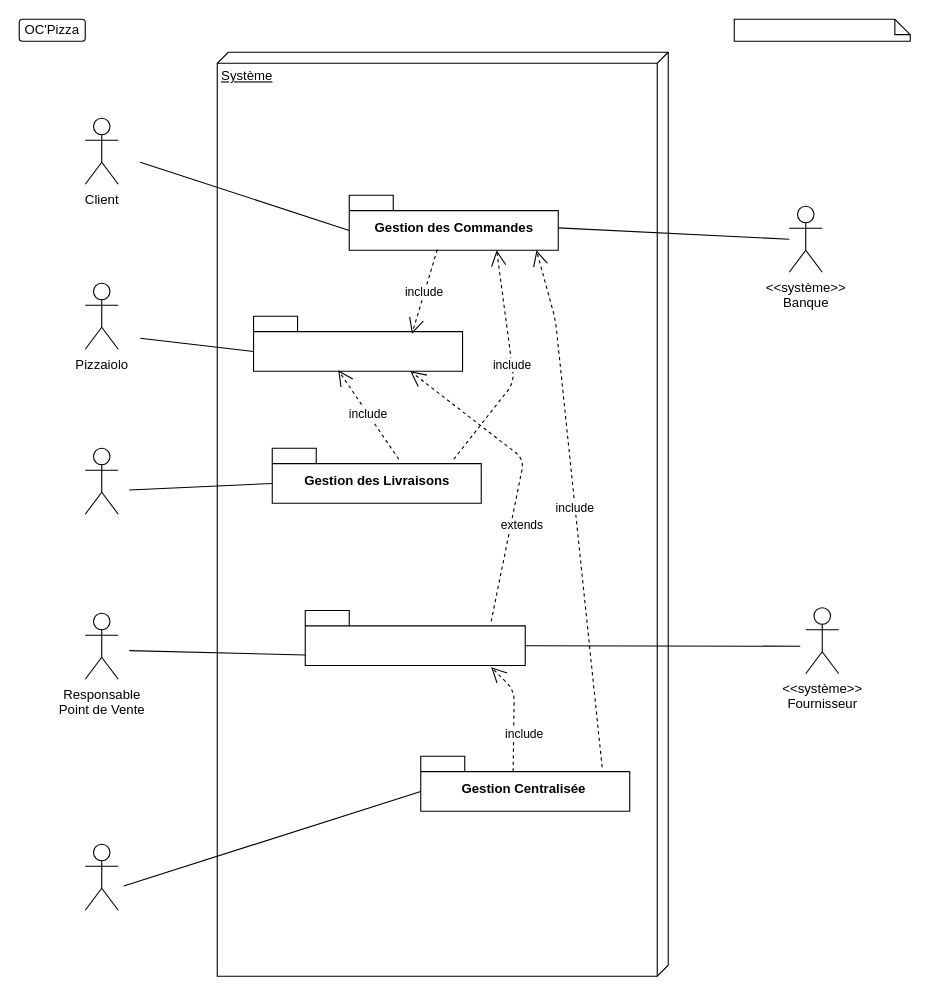
The diagram is 930 pixels wide and 996 high, and some of its shapes have lost their labels. Here are the shapes that lost their labels. From the top down, the centre of each, then its label:
At [821,29]: "Diagramme de Packages".
At [357,343]: "Gestion des Préparations".
At [101,480]: "Livreur".
At [414,637]: "Gestion des Approvisionnements".
At [101,876]: "Direction Groupe".
